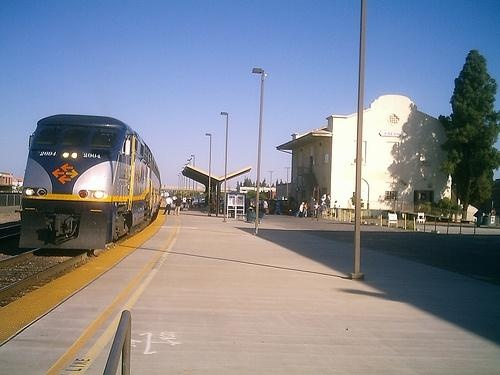train: (18, 114, 163, 251)
